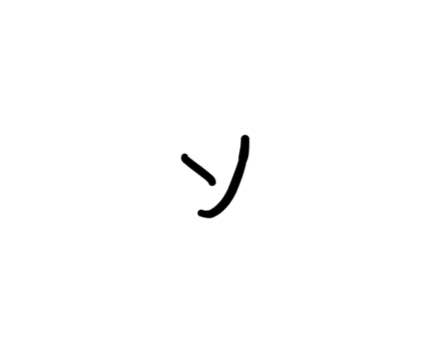n: (169, 132, 253, 224)
